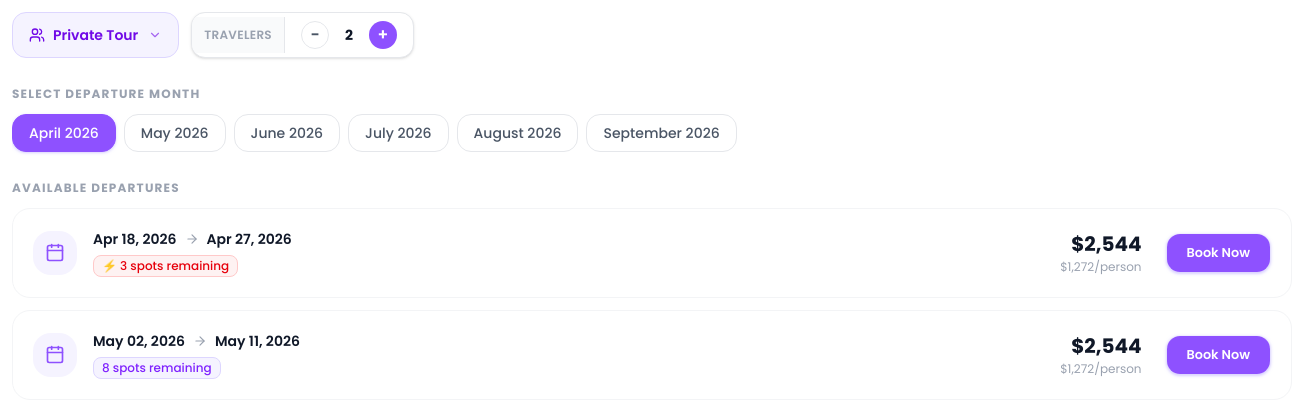
Test case: Availability › increments traveler count and updates total price
Click the button "+" at (383, 35), box 369,21 -> 397,49
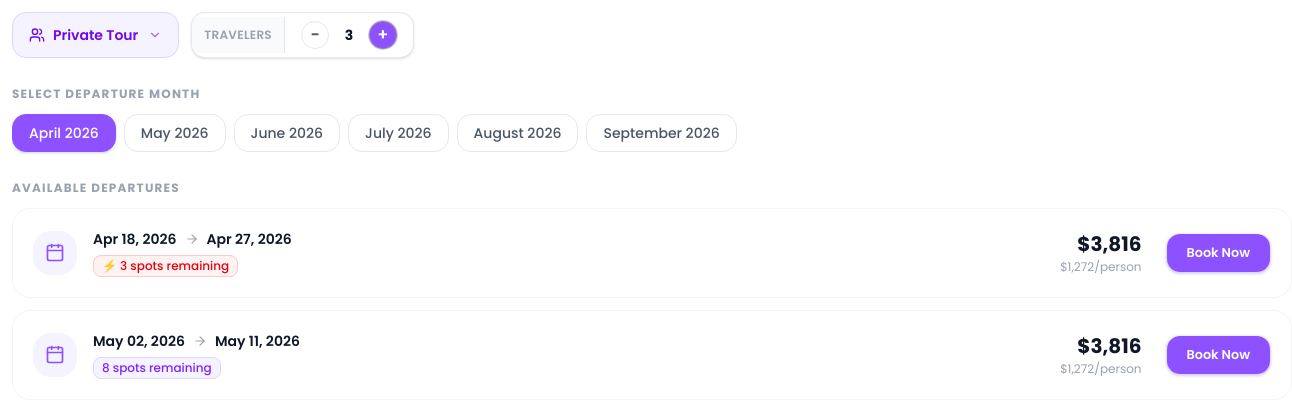
Now the text "$3,816" in the row of "Apr 27, 2026" is shown, box 1077,230 -> 1142,258
